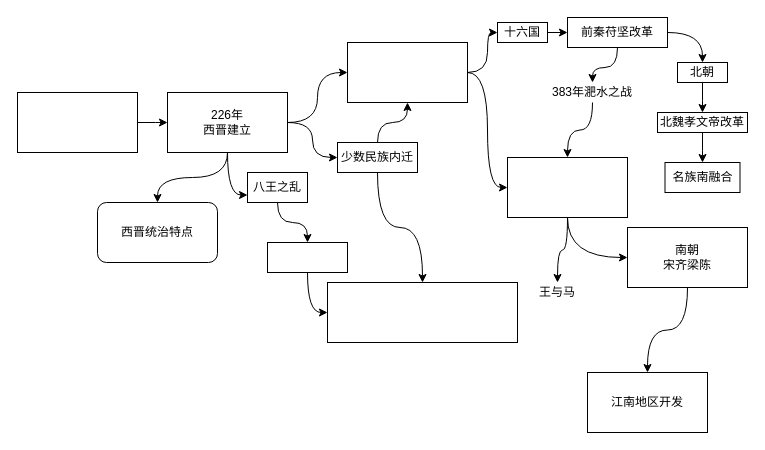
This 765x450 diagram has some shape labels left out. The centre of each missing label's shape, as x and y in pixels:
"229年 三国鼎立" goes at (77,122).
"316年 西晋灭亡" goes at (407,72).
"317年 东晋" goes at (567,187).
"促进民族融合，江南地区开发" goes at (422,312).
"北方人口内迁" goes at (307,257).
